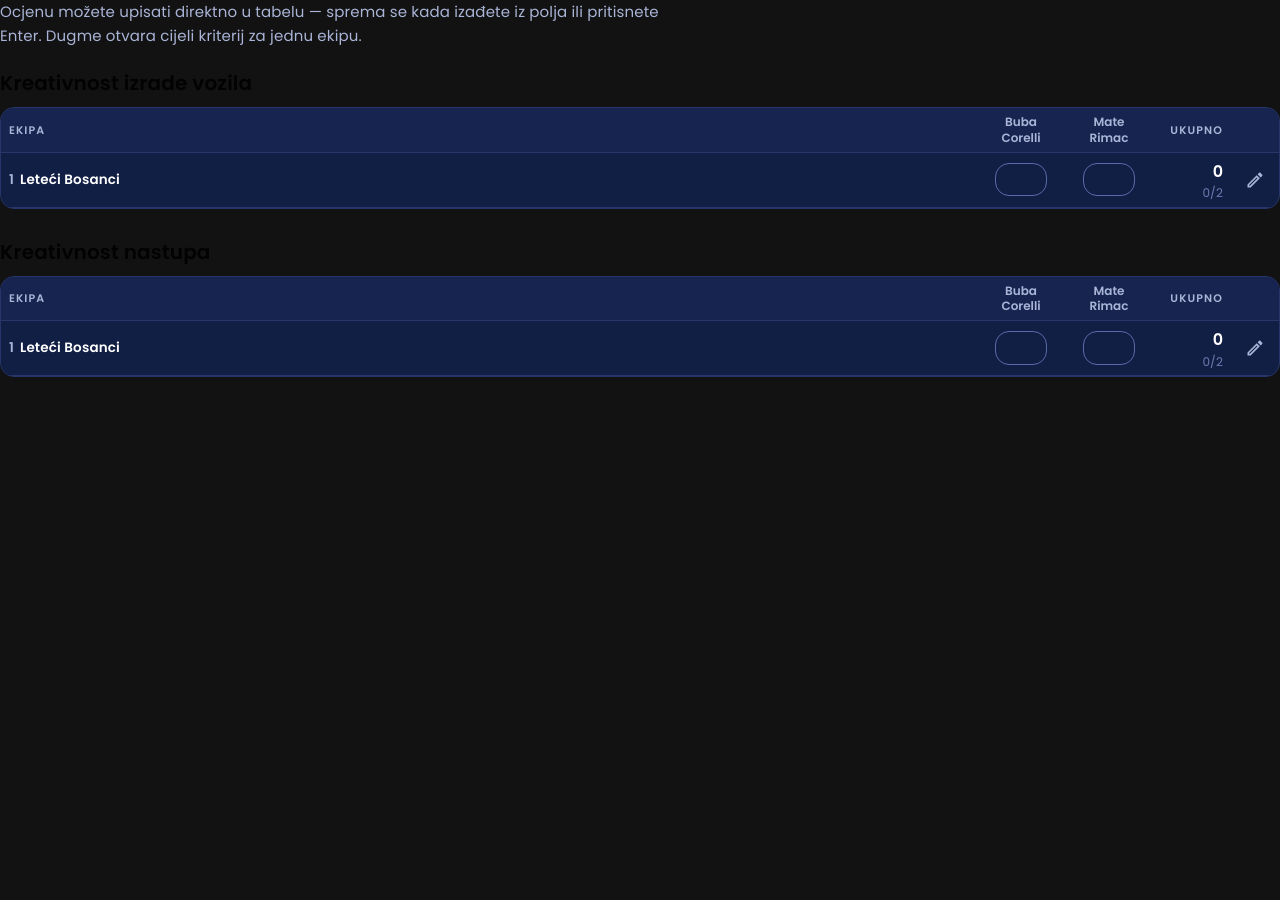
Test: ScoresTab › opens a modal for ONE criterion, listing every judge
Step 1. Click the button named "Kreativnost izrade vozila — Leteći Bosanci" → (1255, 180), box x1=1239 y1=164 x2=1271 y2=196
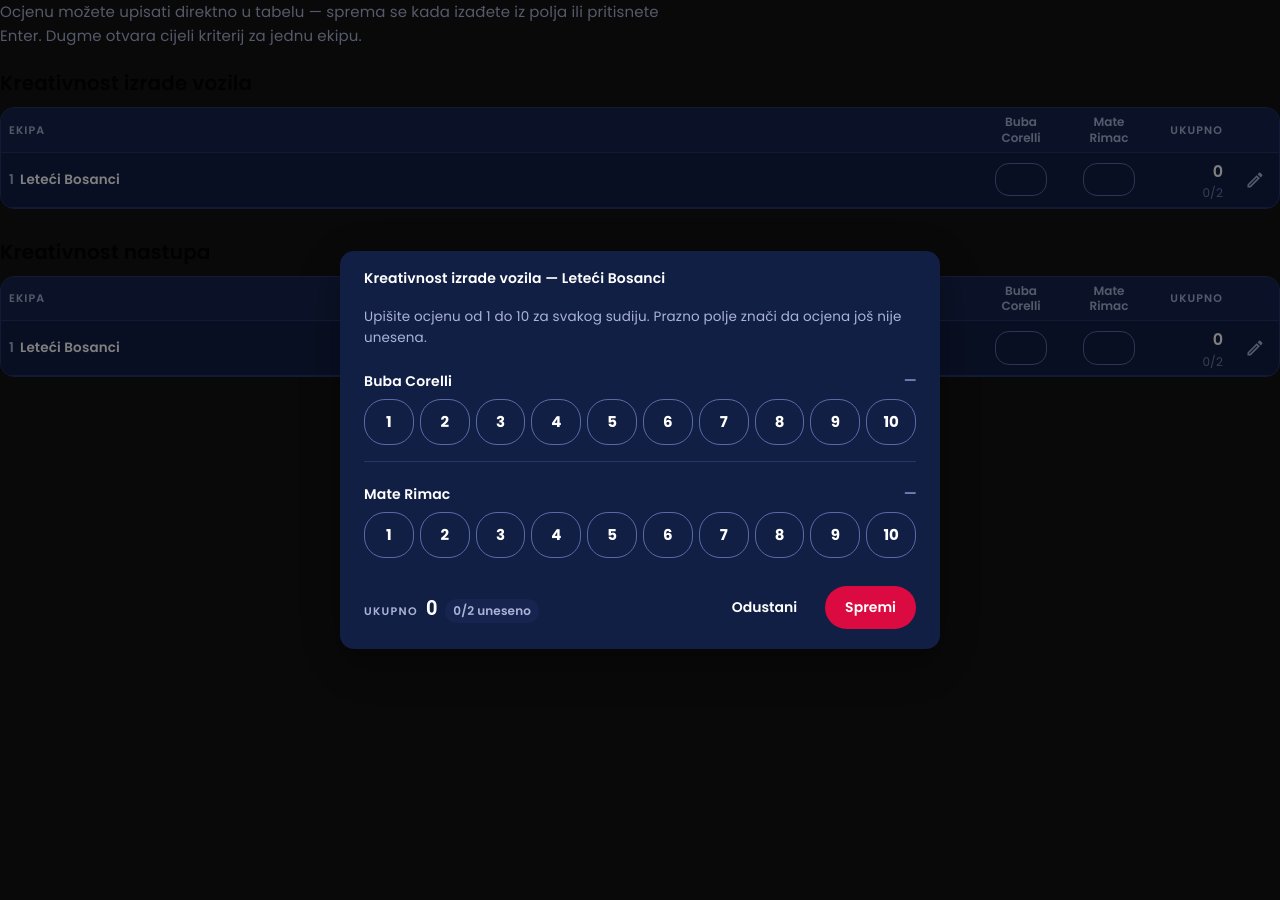
Expected: the heading "Kreativnost izrade vozila — Leteći Bosanci" is shown, x1=364 y1=268 x2=665 y2=288
Expected: the element named "Buba Corelli" is shown, x1=364 y1=399 x2=916 y2=445
Expected: the element named "Mate Rimac" is shown, x1=364 y1=512 x2=916 y2=558
